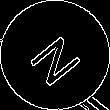N_NE: (23, 24, 87, 86)
